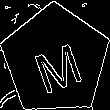M_N: (27, 29, 85, 92)
